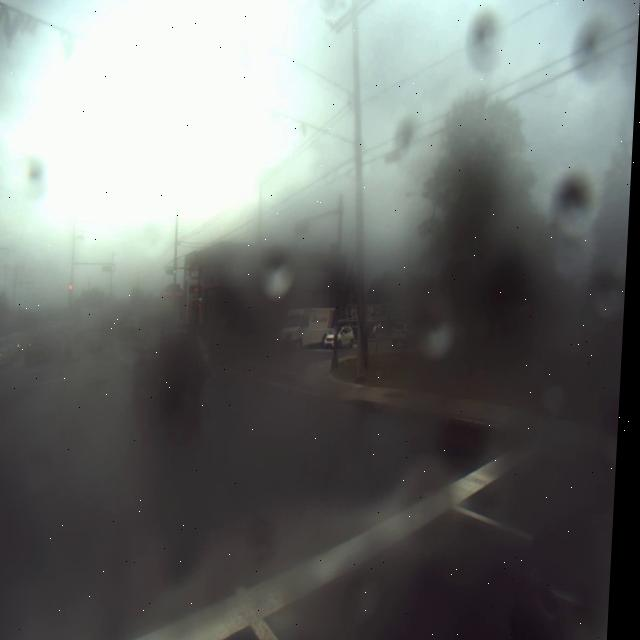car: (130, 317, 212, 401), (90, 332, 103, 351)
